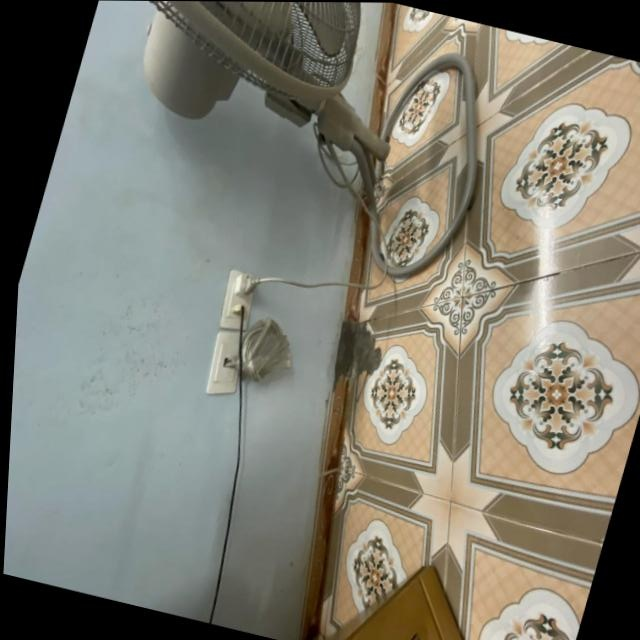outlet: (199, 330, 251, 402), (214, 269, 262, 335)
